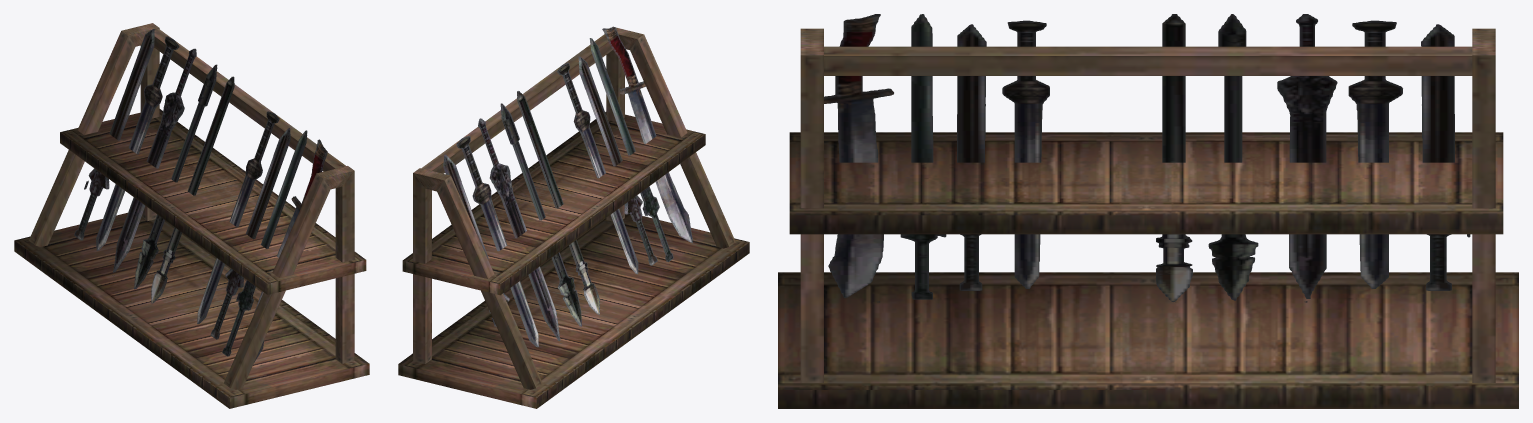
The model's file is wuqijia_yc_41.FBX.
3 views of the same model, side by side, from view 1: azimuth 30°, elevation 25°; view 2: azimuth 150°, elevation 25°; view 3: azimuth 270°, elevation 25° (orthographic). The views are drawn at different scales.
Visible parts, largest first — view 1: wuqijia_yc_40; view 2: wuqijia_yc_40; view 3: wuqijia_yc_40.
Boxes of the visible parts, <box> form: wuqijia_yc_40: <box>14,23,369,408</box>; wuqijia_yc_40: <box>398,26,749,408</box>; wuqijia_yc_40: <box>778,14,1518,408</box>.
Size of what is drawn, in the model's own units: 158 by 235 by 419.
